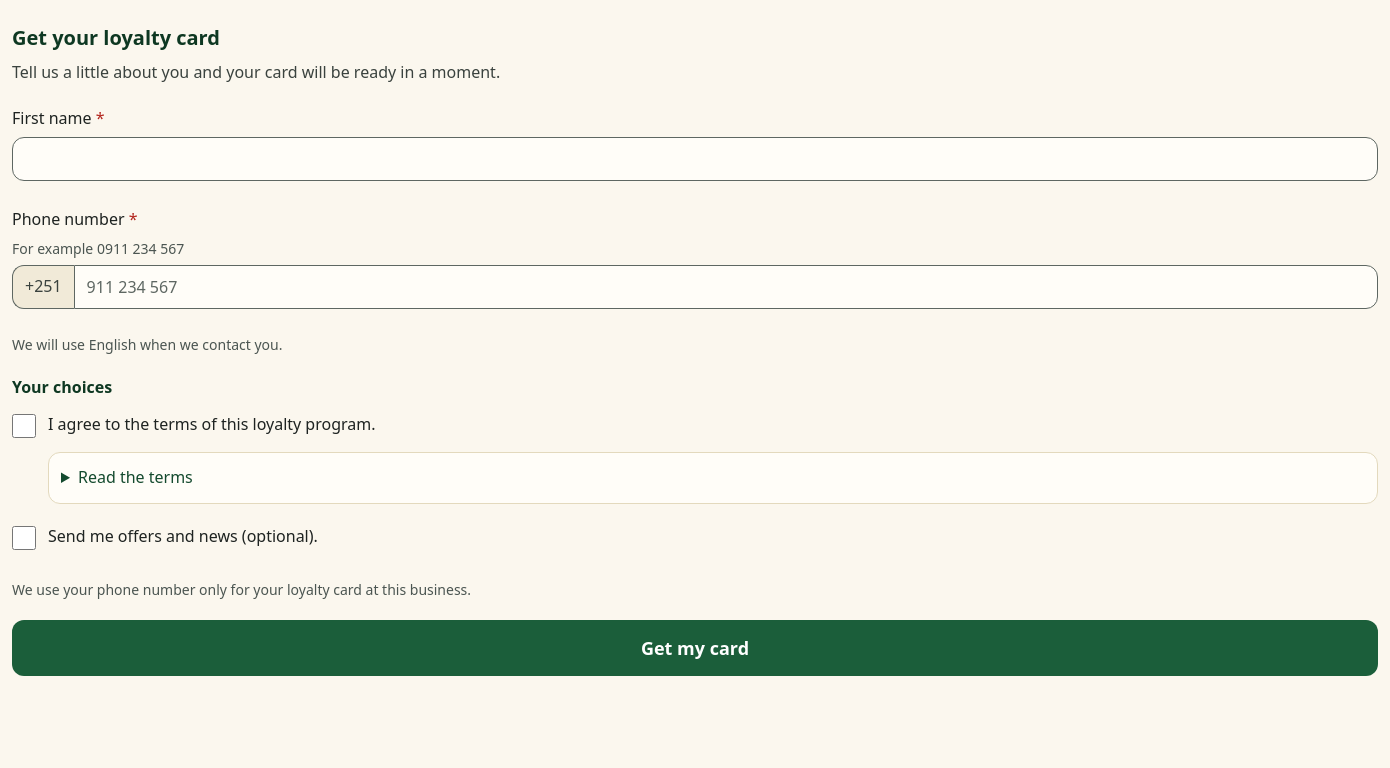
Test case: EnrollmentFlow › enrolls a new customer and moves on to the wallet choice
The width and height of the screenshot is (1390, 768).
Type "Abebe" into the field labelled "First name *" at [695, 159], box left=12, top=137, right=1378, bottom=181
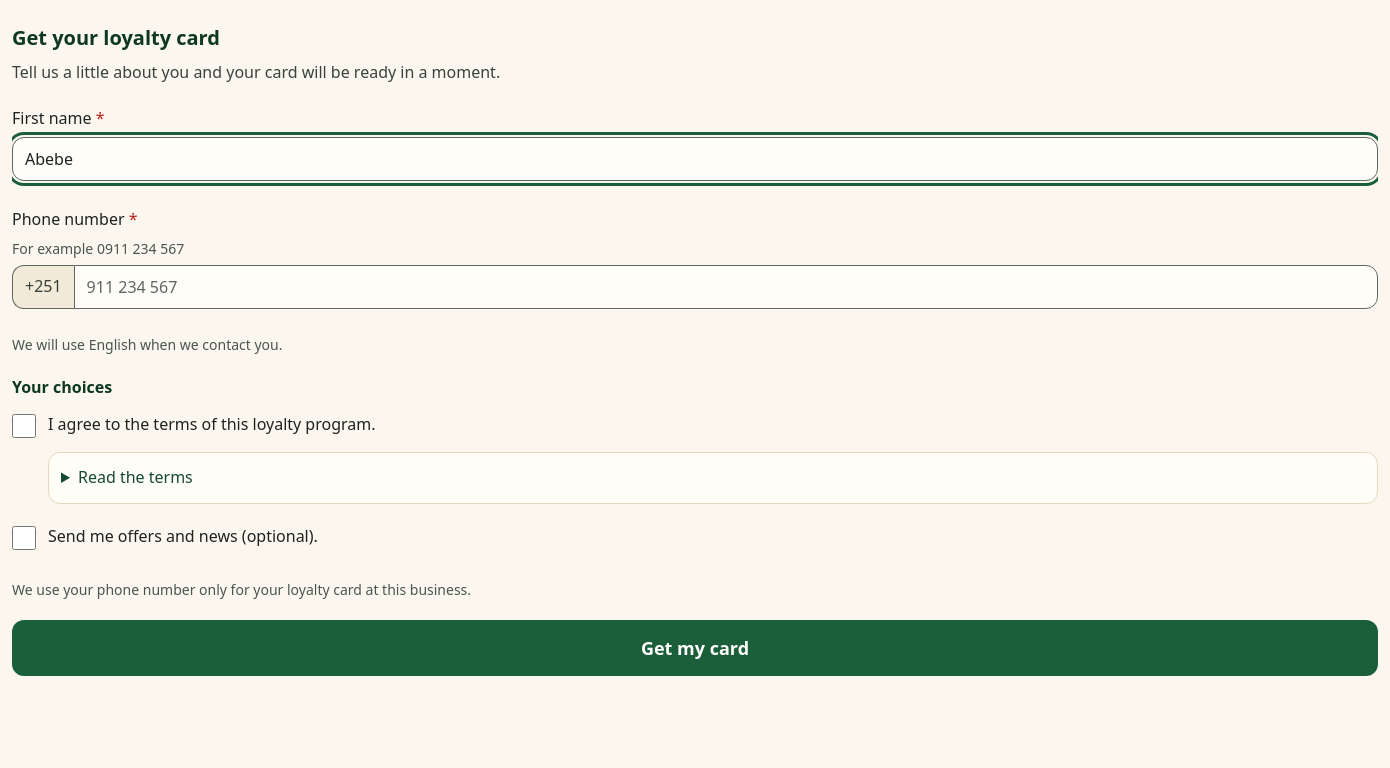
Type "0911 234 567" into the field labelled "Phone number *" at [726, 287], box left=74, top=265, right=1378, bottom=309
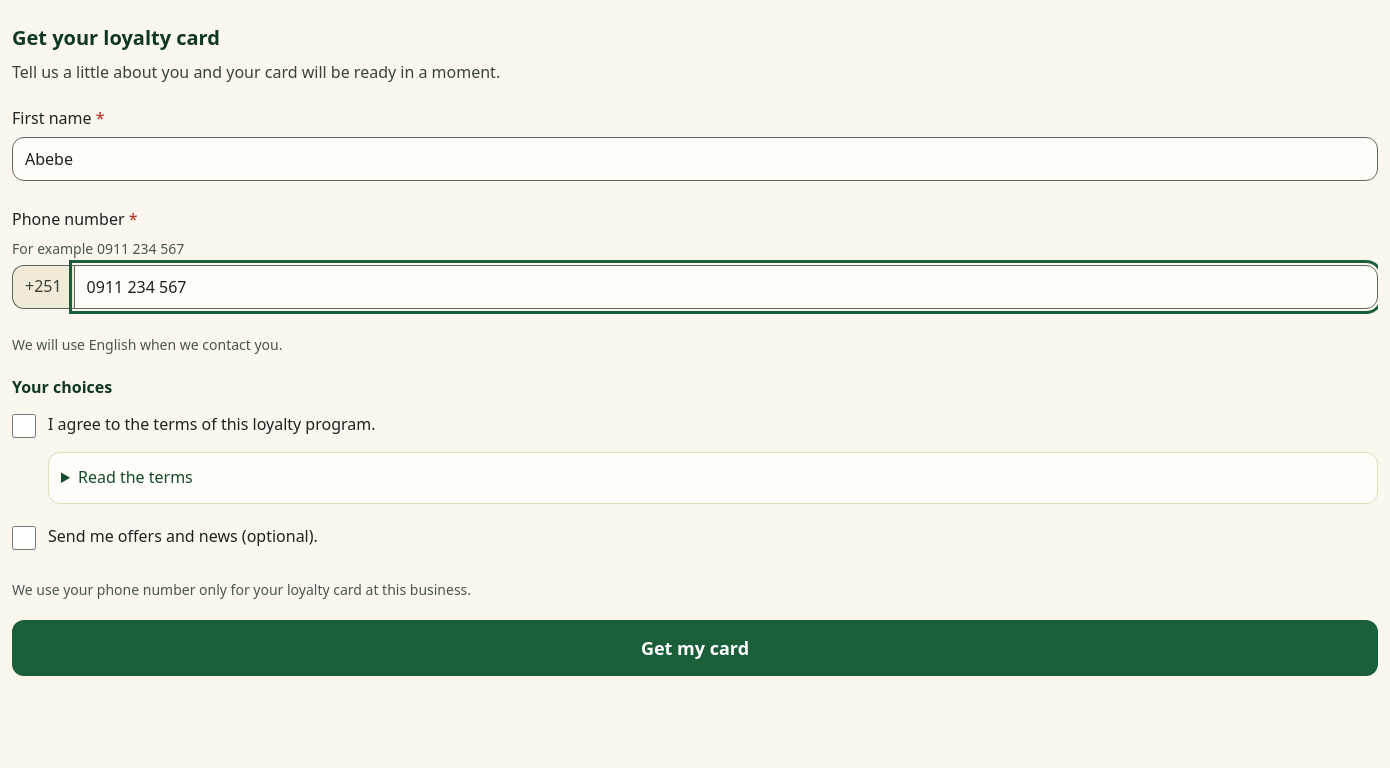
Click the checkbox labelled "I agree to the terms of this loyalty program." at [24, 426], box left=12, top=414, right=36, bottom=438
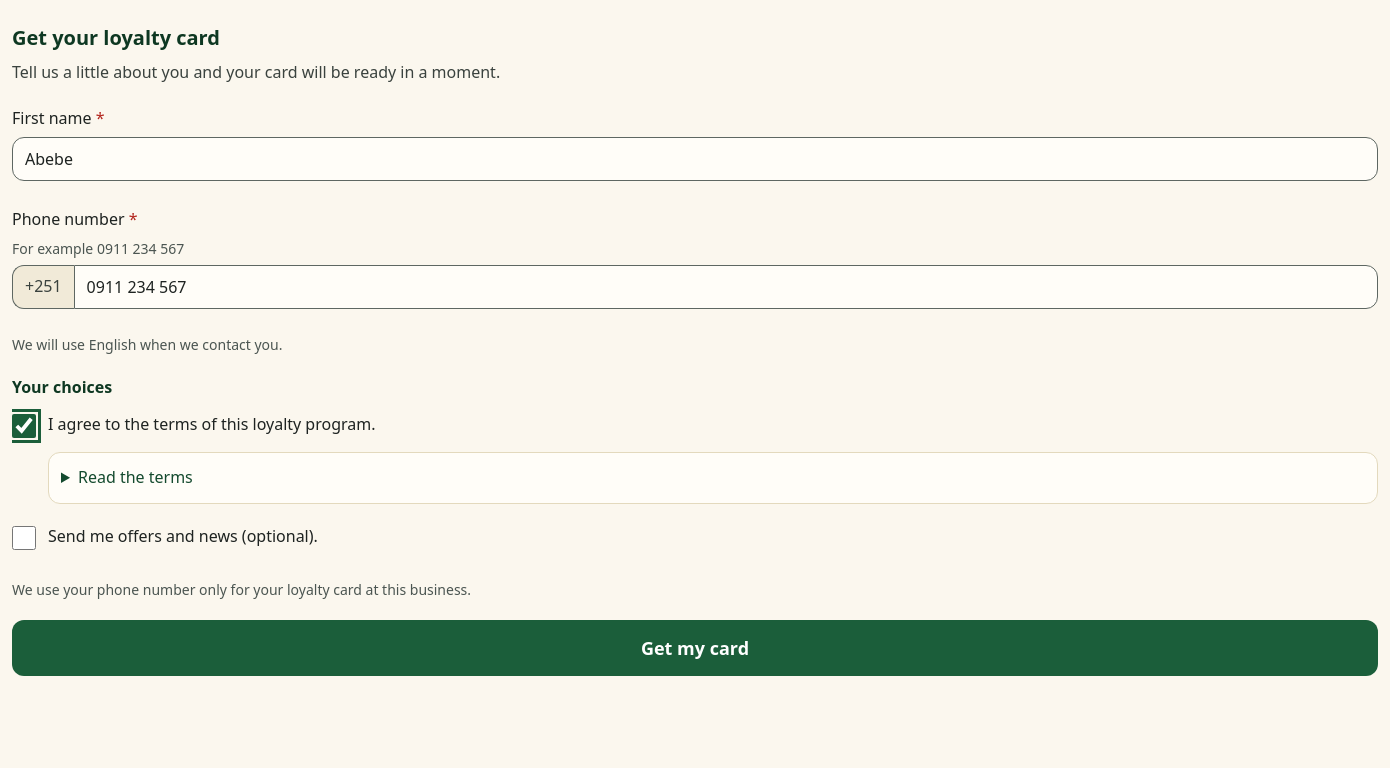
Click the checkbox labelled "Send me offers and news (optional)." at [24, 538], box left=12, top=526, right=36, bottom=550
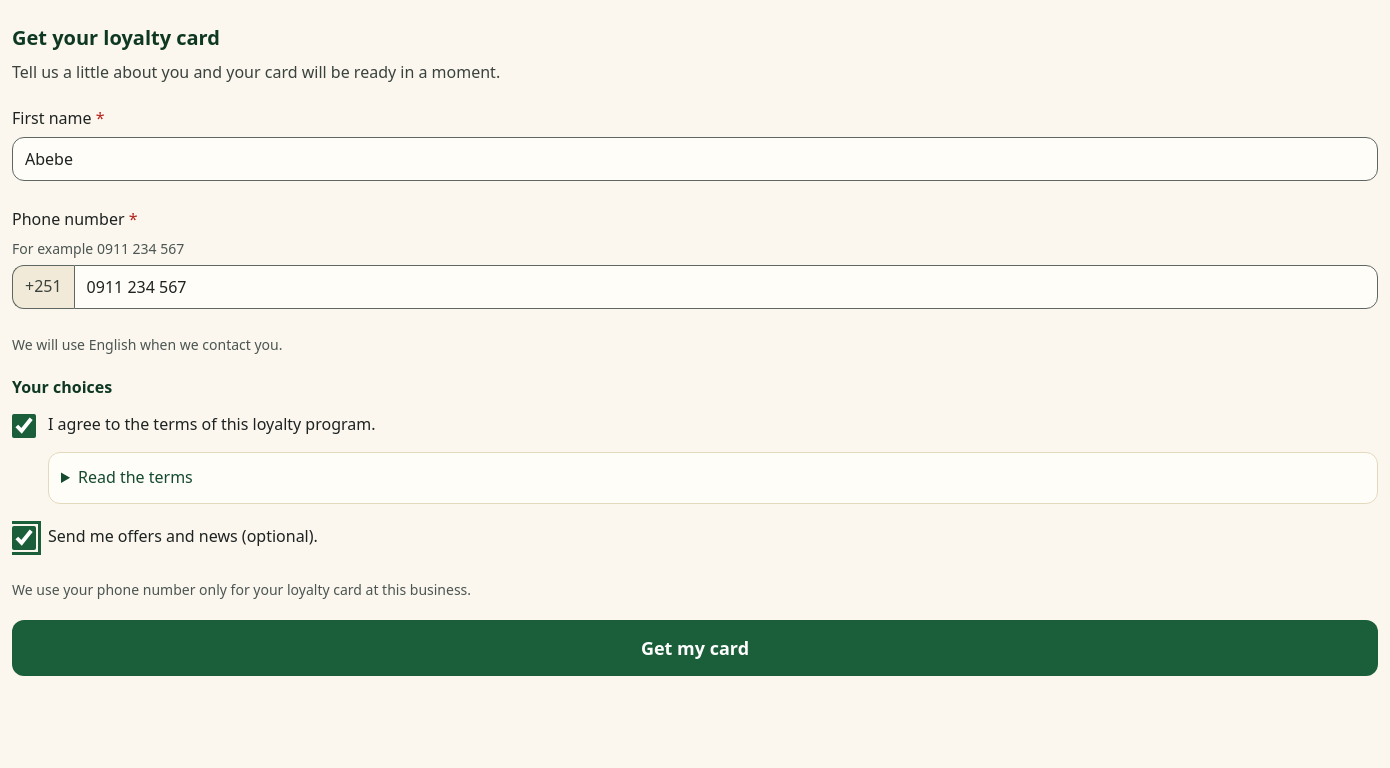
Click the button "Get my card" at [695, 648], box left=12, top=620, right=1378, bottom=676
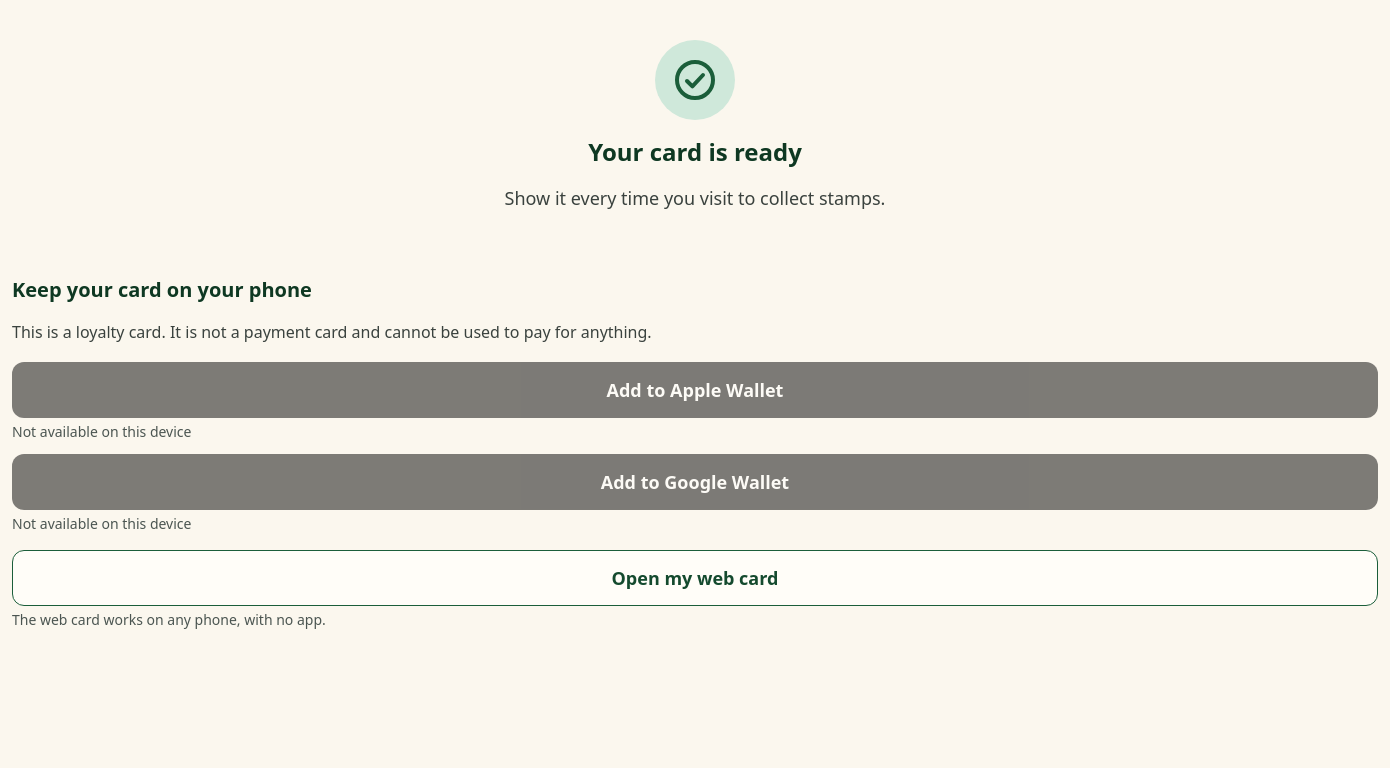
Now the heading "Your card is ready" is shown, box left=588, top=136, right=802, bottom=168
Now the button "Add to Apple Wallet" is disabled, box left=12, top=362, right=1378, bottom=418
Now the button "Add to Google Wallet" is disabled, box left=12, top=454, right=1378, bottom=510
